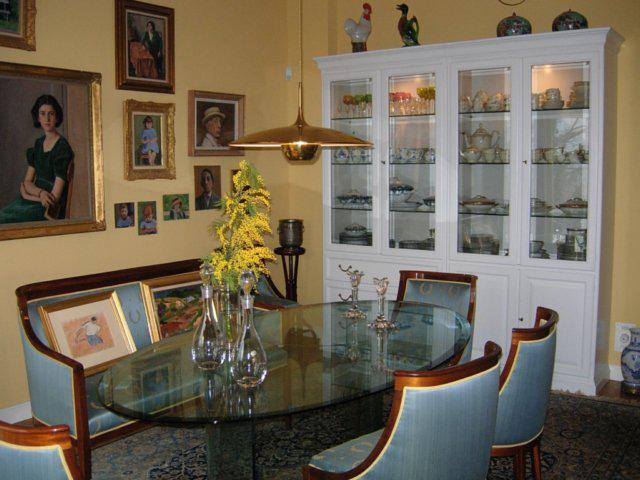Armario: (315, 55, 592, 393)
